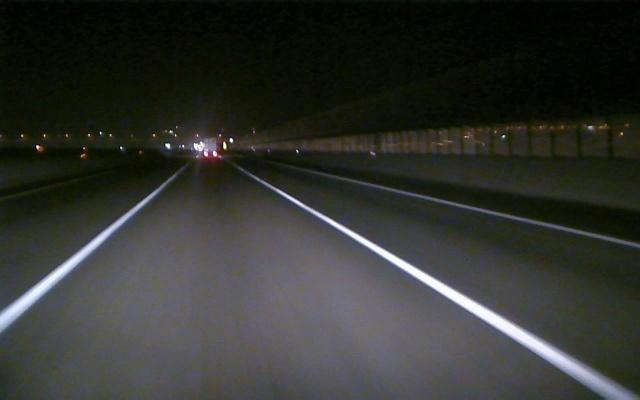lane: (251, 177, 629, 395), (314, 171, 639, 249), (3, 180, 170, 331)
